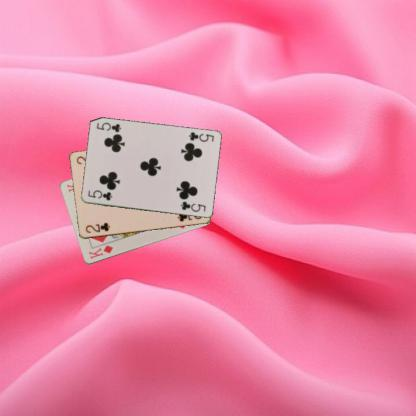2c: (83, 220, 111, 235)
5c: (186, 130, 215, 144), (86, 188, 113, 202)
Kd: (86, 242, 114, 260)
